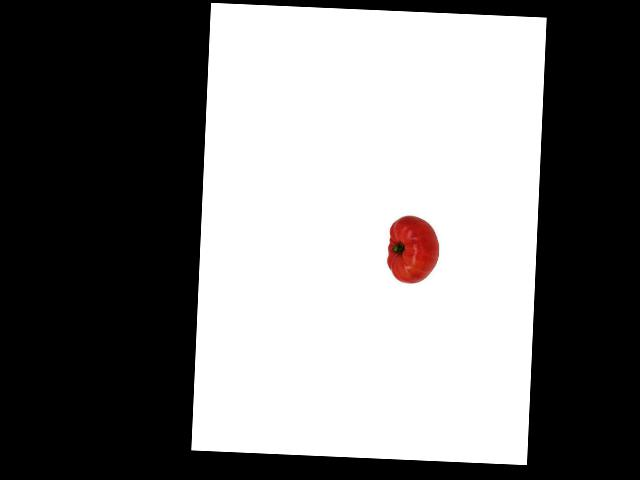tomato: (387, 215, 440, 285)
